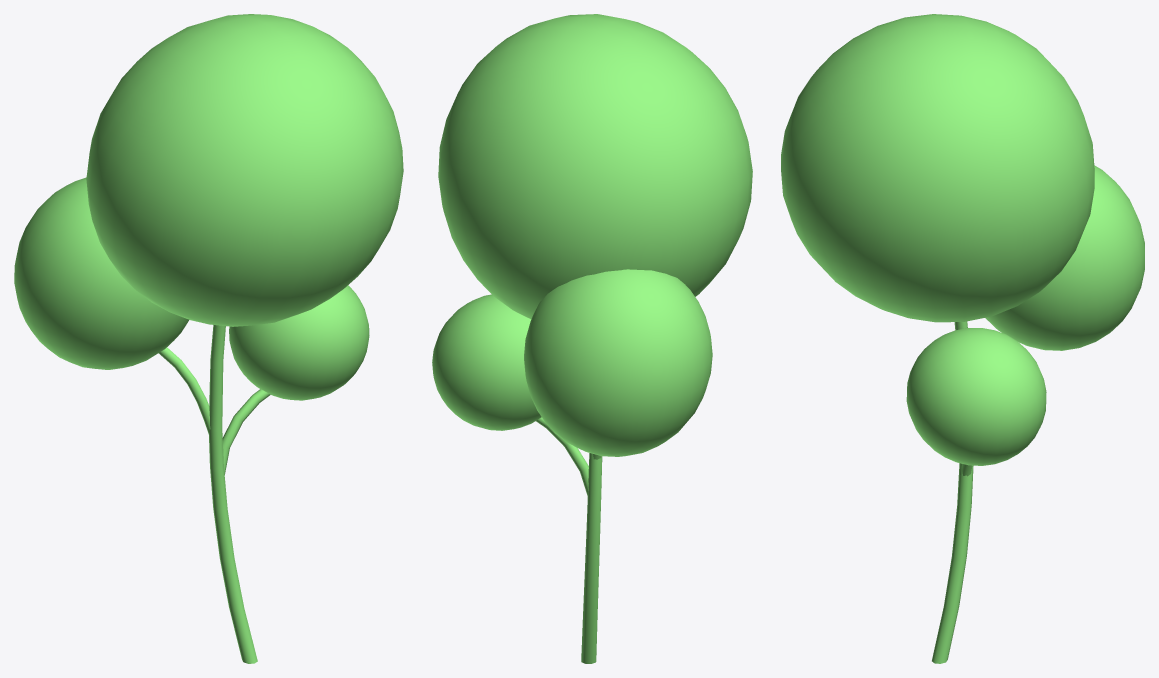
The model's file is TreeRound.fbx.
3 renders of one model, left to right at view 1: azimuth 30°, elevation 25°; view 2: azimuth 150°, elevation 25°; view 3: azimuth 270°, elevation 25°, orthographic.
Parts seen in each view (by area): view 1: Tree; view 2: Tree; view 3: Tree.
Part boxes in pixels (x1,y1,x2,y2): Tree: (14, 14, 403, 663); Tree: (432, 14, 752, 663); Tree: (781, 14, 1144, 663).
Bounding box in the file's own units: 434 × 882 × 460.
